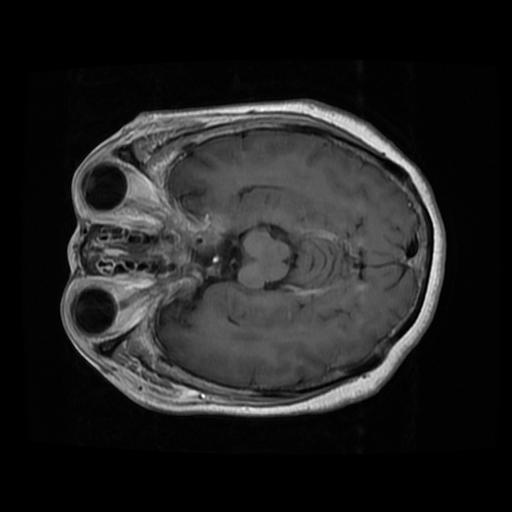meningioma: (209, 209, 234, 235)
